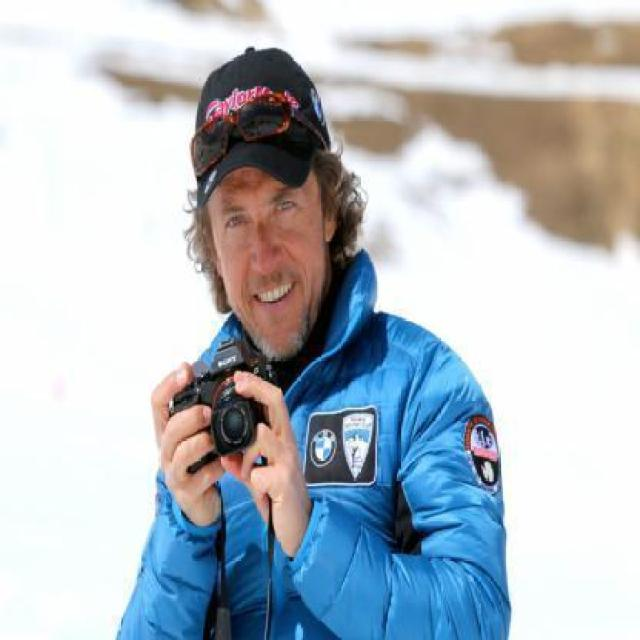face_nomask: (205, 169, 313, 316)
glasses: (186, 92, 329, 180)
hand_noglove: (142, 359, 226, 512), (227, 365, 304, 510)
head_nohelmet: (171, 58, 352, 198)
